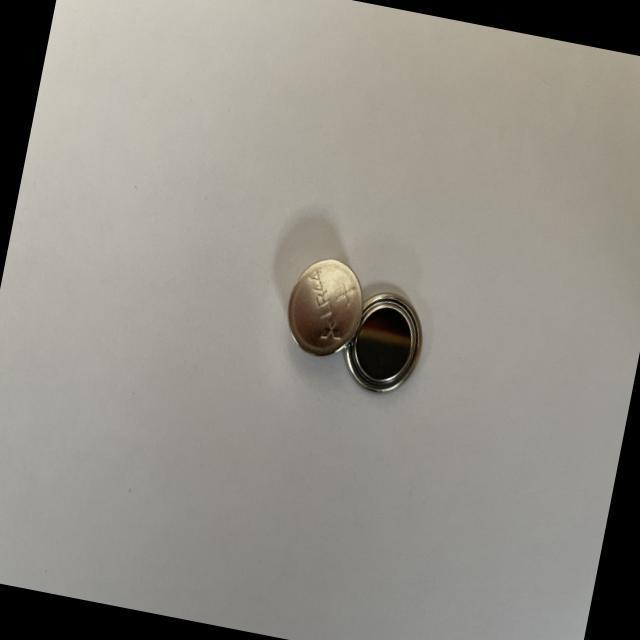COIN: (338, 286, 431, 401), (280, 251, 370, 361)
